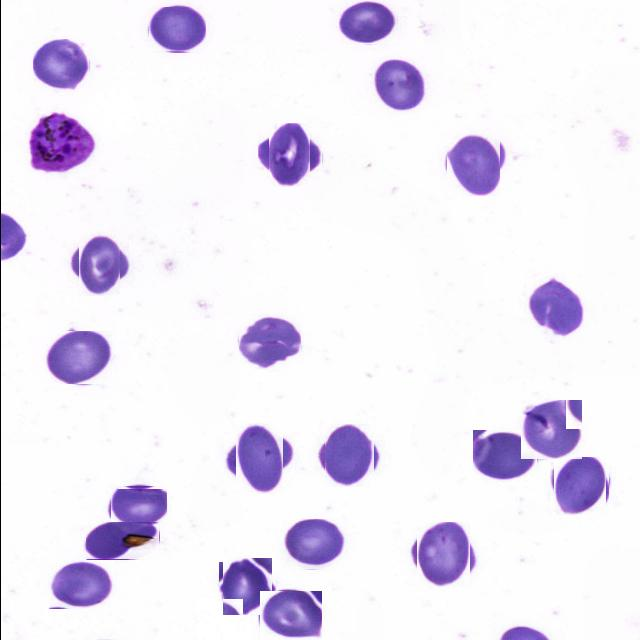red blood cell: (520, 400, 582, 460), (43, 331, 113, 384), (412, 524, 472, 584), (228, 428, 288, 488), (442, 133, 502, 193), (525, 278, 583, 338), (238, 316, 300, 370), (472, 430, 536, 482), (48, 559, 114, 609), (282, 519, 345, 570), (550, 458, 606, 514), (321, 427, 376, 483), (32, 38, 89, 92), (259, 591, 321, 640), (220, 560, 274, 614), (262, 128, 316, 182), (85, 522, 159, 560), (371, 60, 426, 110), (72, 239, 124, 291), (148, 7, 206, 52), (338, 1, 397, 44), (110, 486, 167, 526)
schizont: (26, 109, 97, 175)
